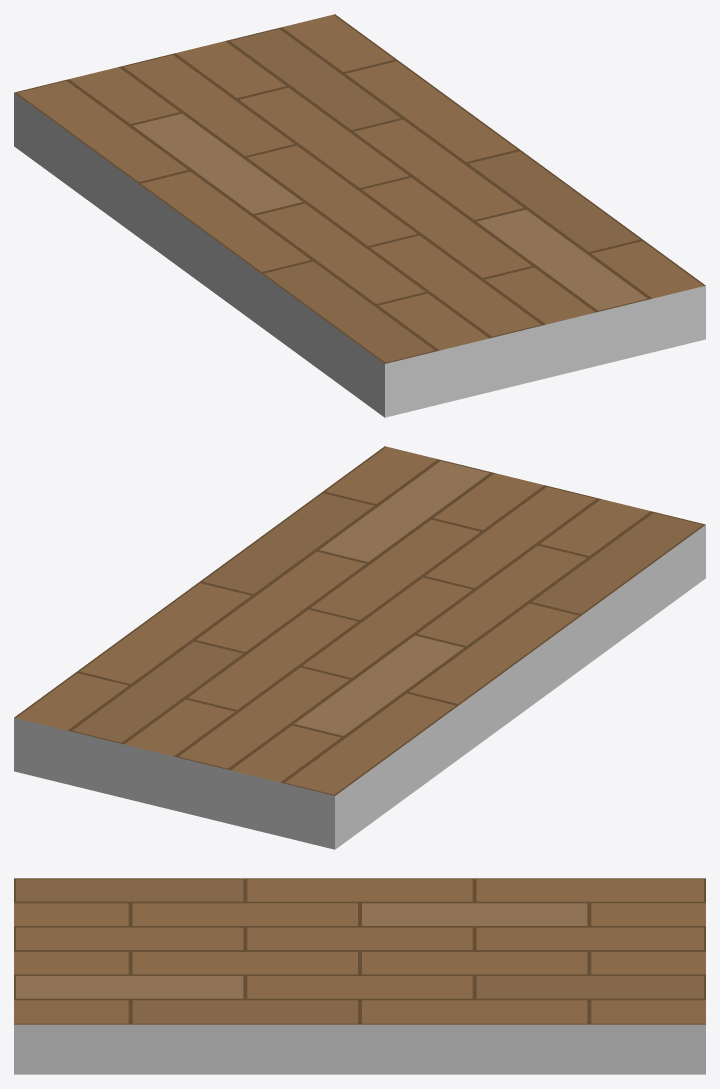
File: Floor7_02.fbx
3 views of the same model, one above another, from view 1: azimuth 30°, elevation 25°; view 2: azimuth 150°, elevation 25°; view 3: azimuth 270°, elevation 25° (orthographic). The views are drawn at different scales.
Parts seen in each view (by area): view 1: Floor7_02; view 2: Floor7_02; view 3: Floor7_02.
Boxes of the visible parts, <box> form: Floor7_02: <box>14,14,705,417</box>; Floor7_02: <box>14,446,705,849</box>; Floor7_02: <box>14,878,705,1074</box>.
Size of the model in its own units: 125 by 20 by 250.
